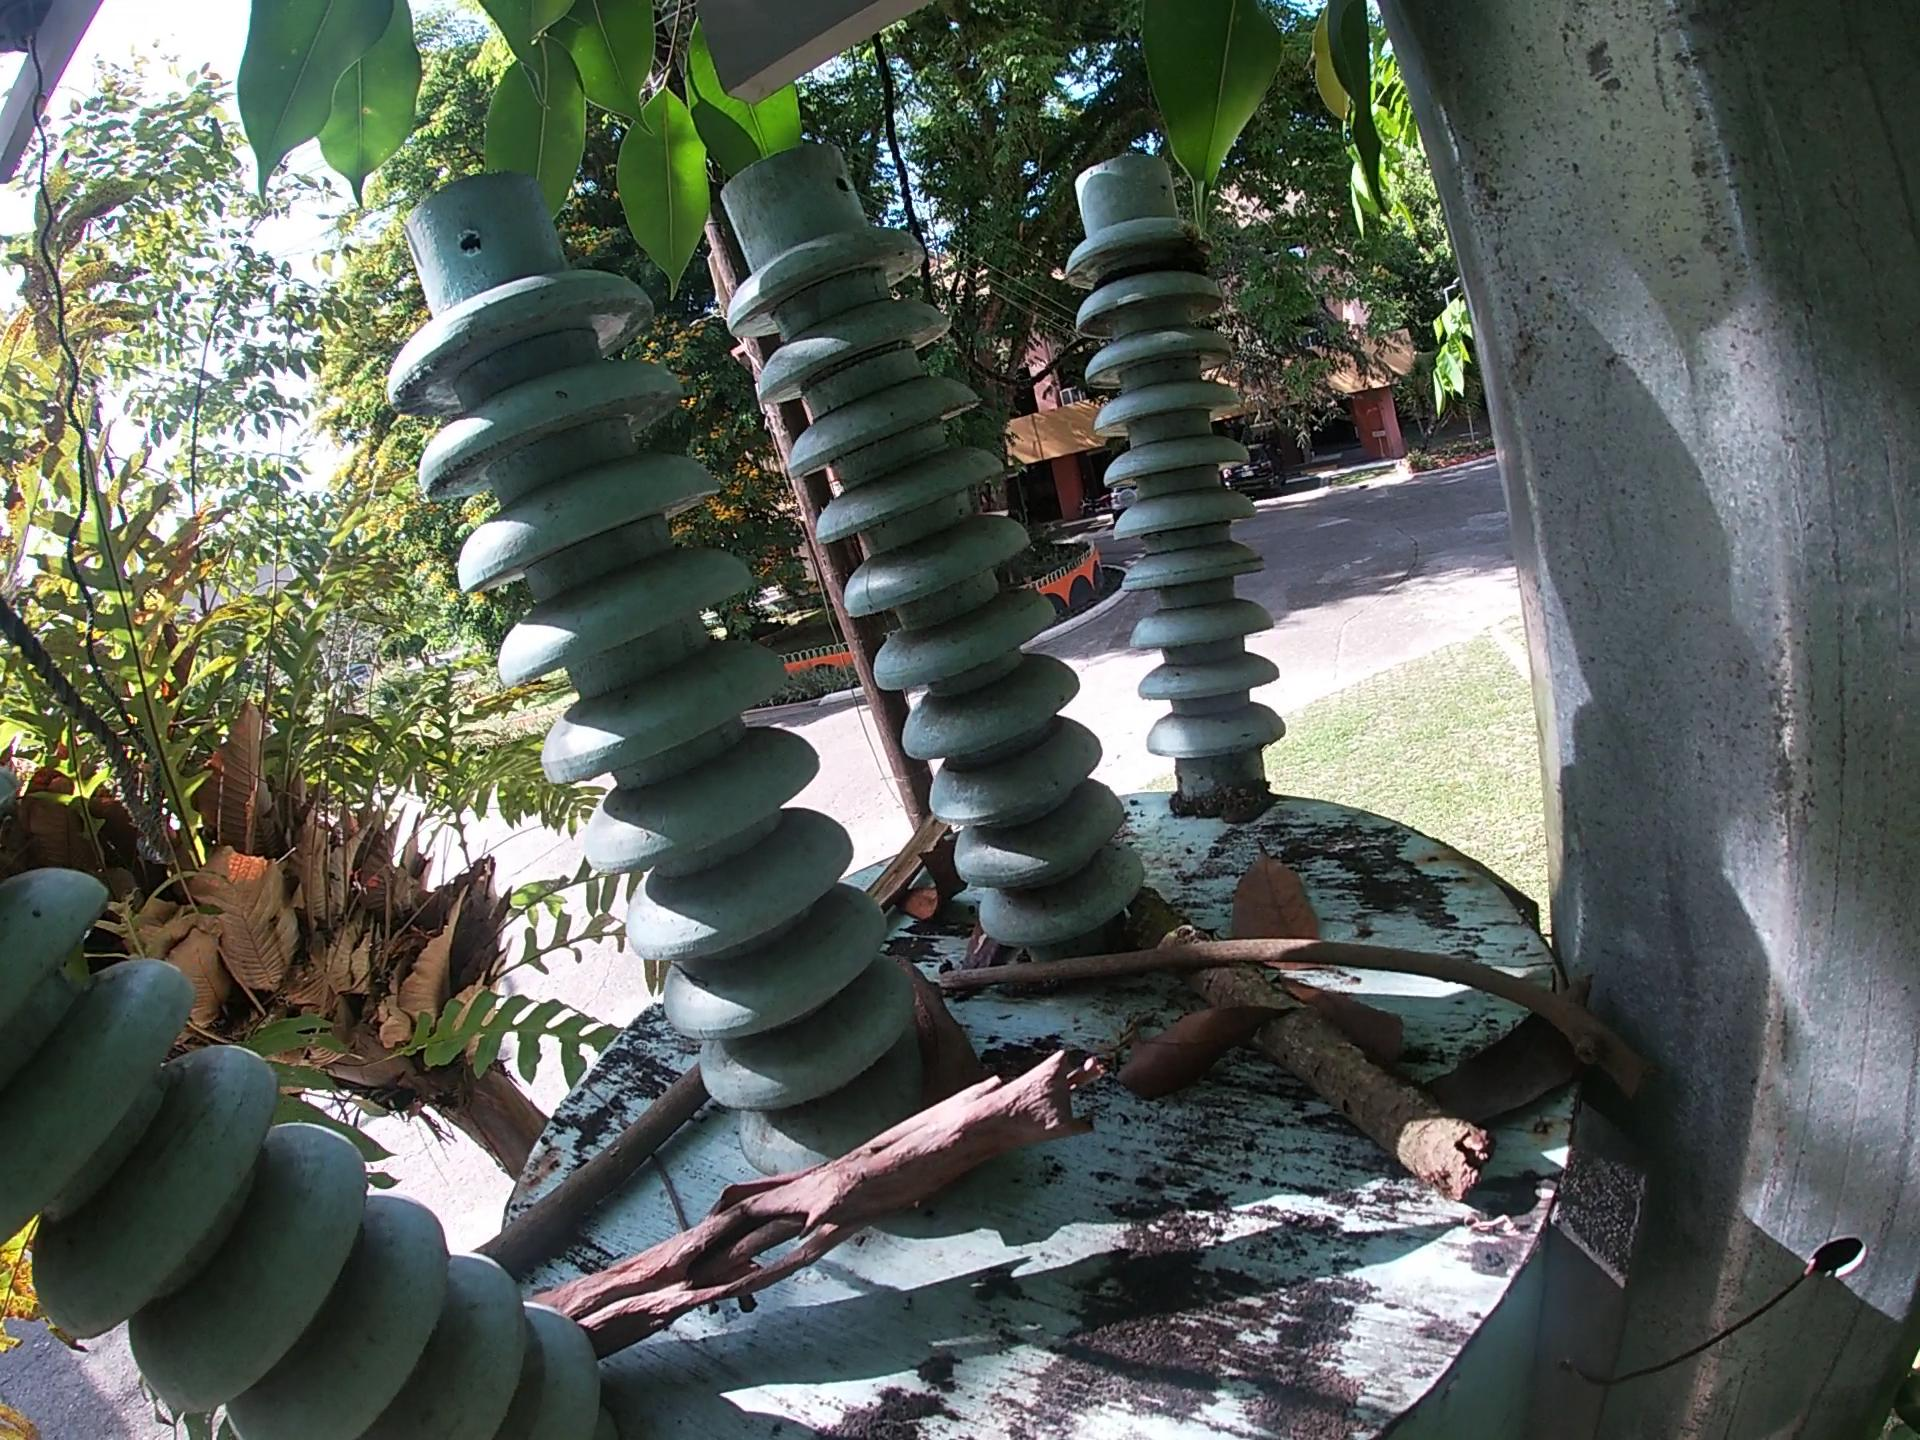leaf: (1439, 985, 1610, 1107), (1119, 994, 1258, 1092), (1235, 838, 1324, 967), (1315, 985, 1435, 1051)
mahogany fruit: (900, 961, 946, 1115), (913, 830, 977, 939)
tree branch: (562, 1051, 1113, 1358), (1143, 903, 1533, 1230), (903, 933, 1655, 1091), (449, 1057, 738, 1271), (863, 782, 951, 903), (636, 1144, 708, 1240)
